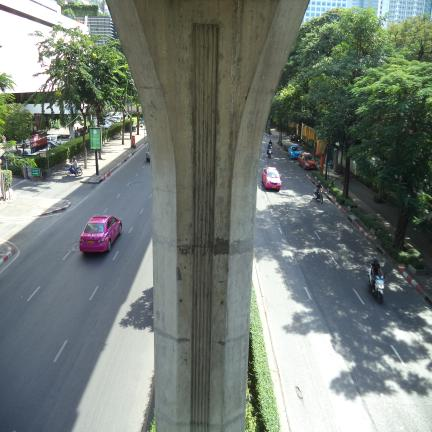human: (371, 257, 384, 290), (71, 156, 78, 176), (315, 181, 322, 199)
motorbike: (368, 267, 384, 304), (314, 189, 323, 204), (76, 166, 83, 176), (66, 166, 73, 176), (267, 148, 272, 158)
taxi: (79, 215, 122, 252), (262, 167, 281, 190), (298, 153, 317, 169), (288, 144, 302, 159)
